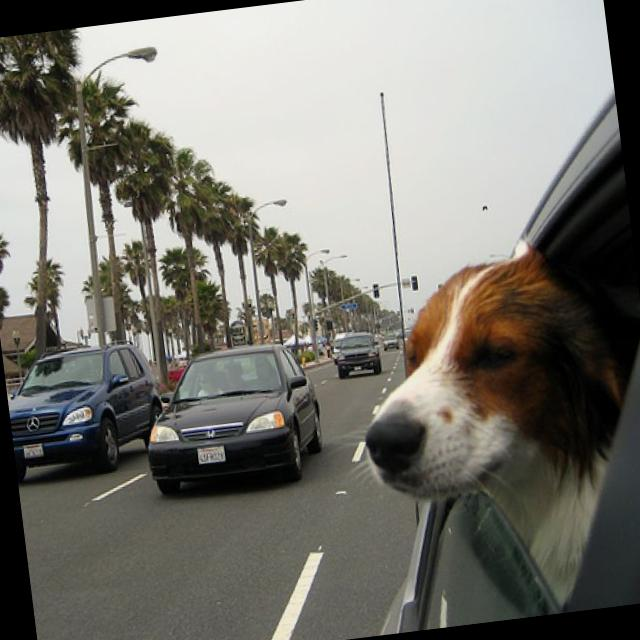Vehicle: (306, 67, 640, 636), (138, 332, 332, 490), (1, 328, 169, 486), (332, 328, 383, 379), (329, 332, 352, 364), (381, 332, 400, 351)
